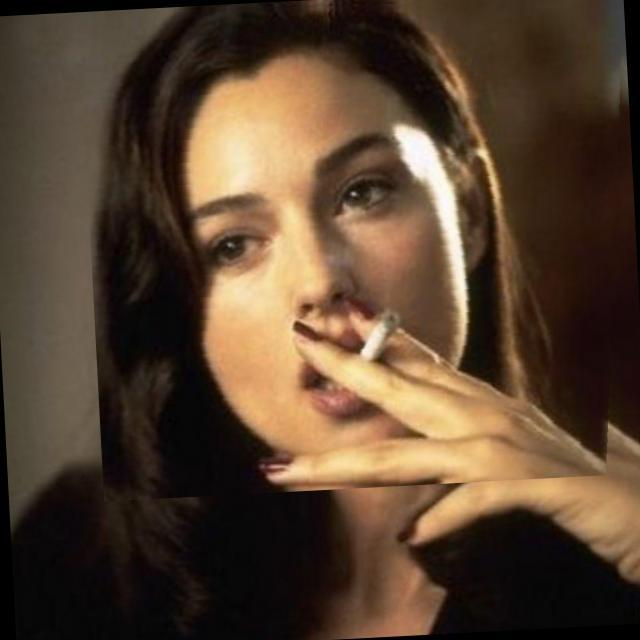cigarette: (346, 279, 459, 394)
